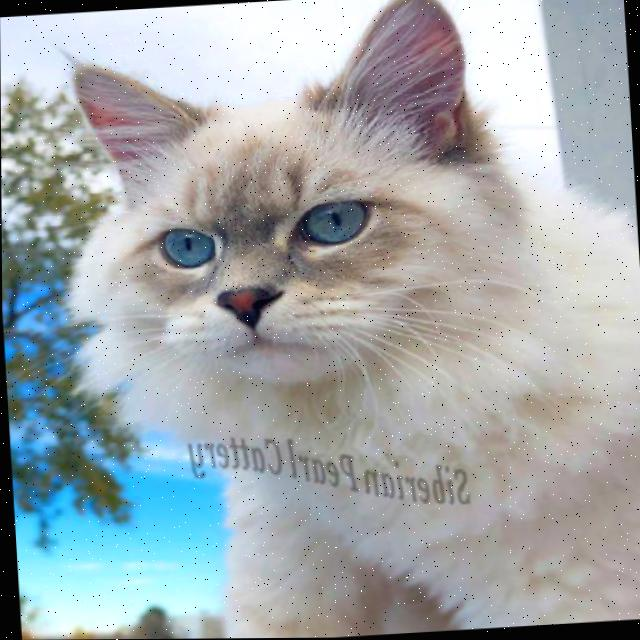Neva Masquerade: (39, 0, 640, 640)
